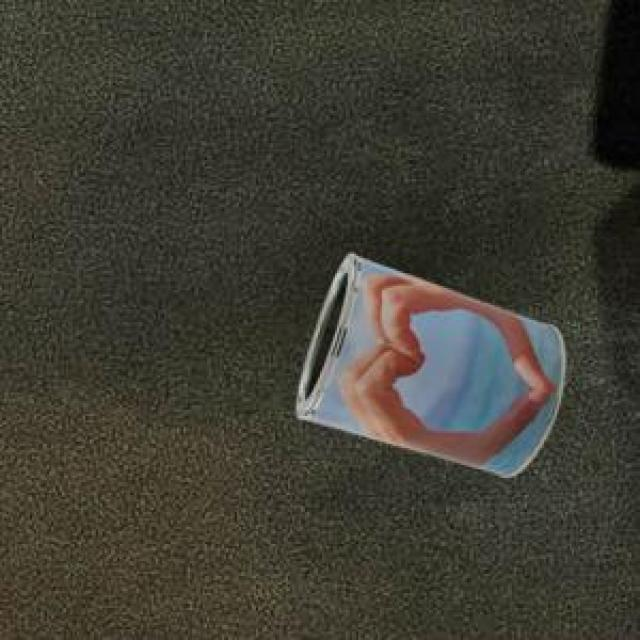logam: (293, 251, 562, 475)
